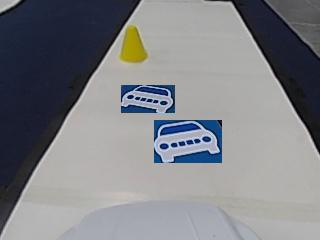cone: (118, 27, 147, 62)
